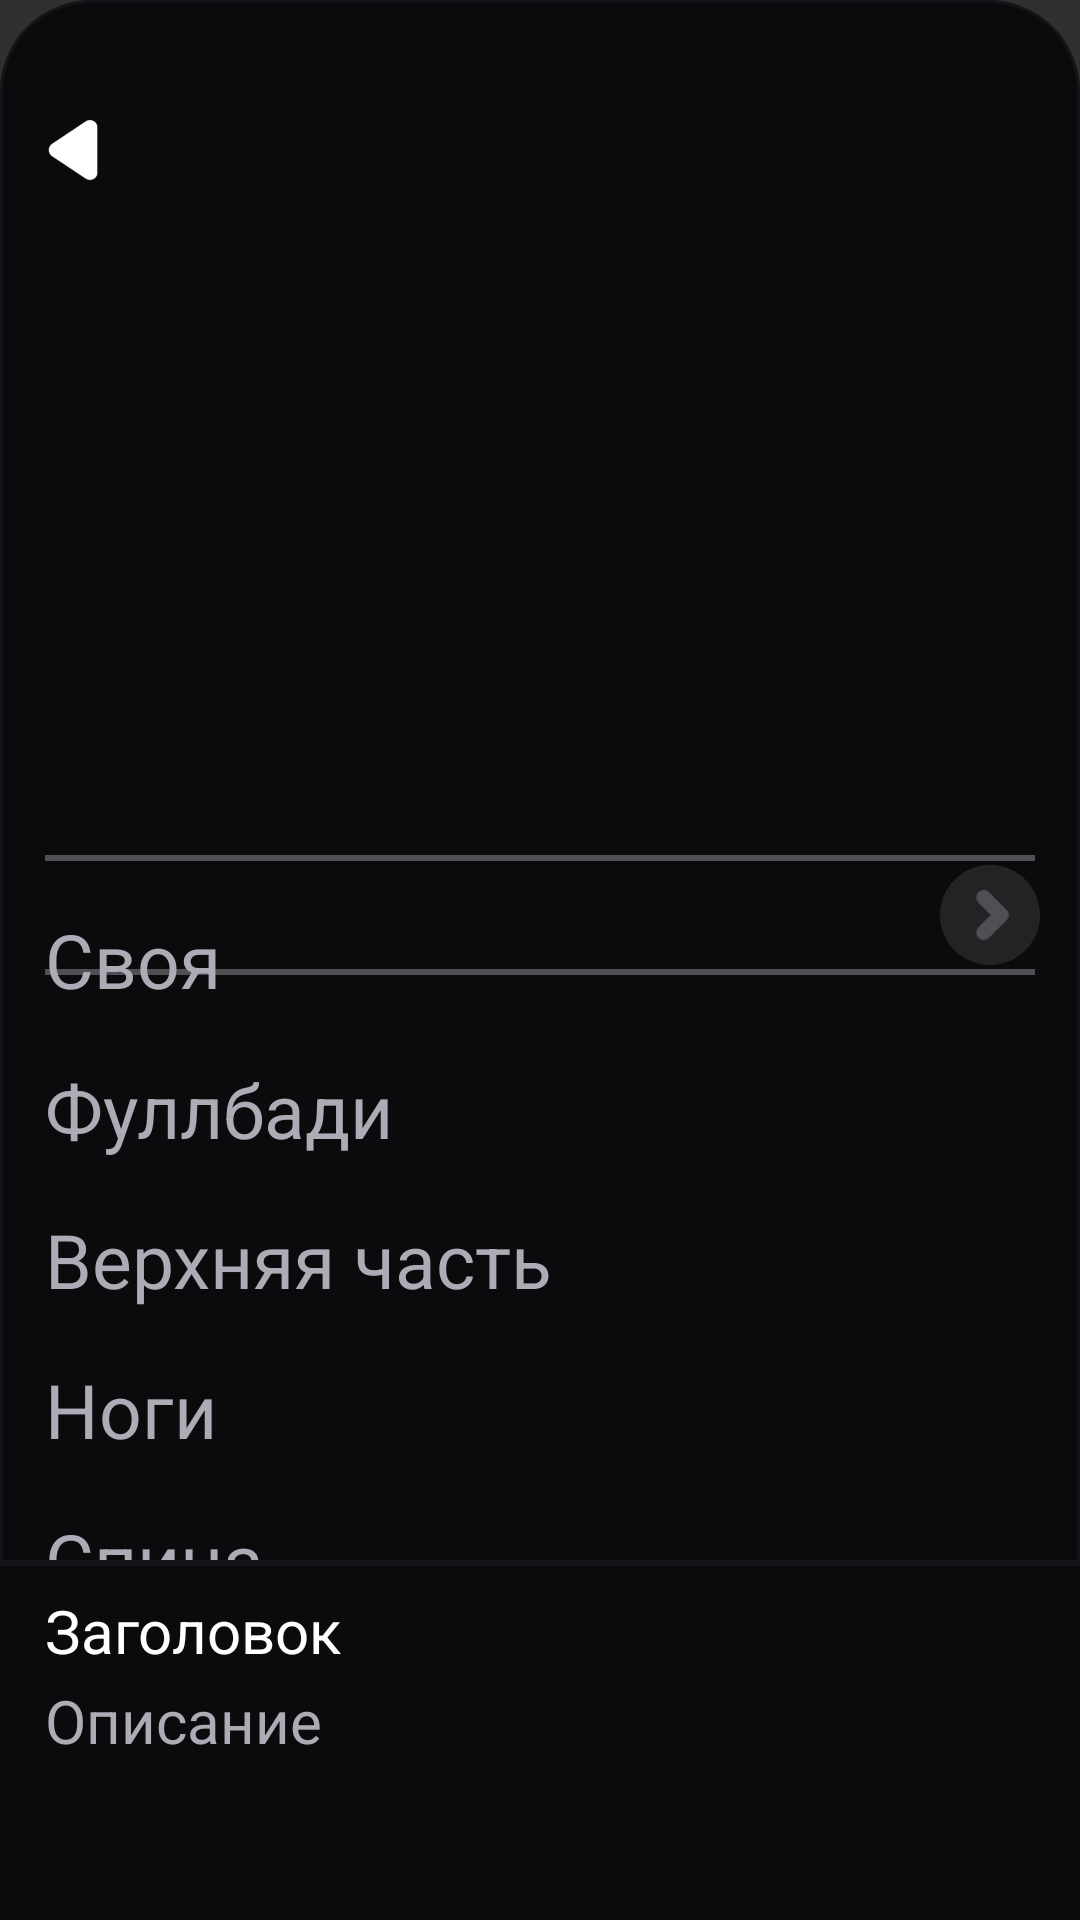

Named icons in this screenshot (1080px×1920px) and their bounding boxes, bbox(x1, y1, x2, y2):
back: bbox(48, 120, 98, 180)
continue: bbox(941, 866, 1039, 964)
